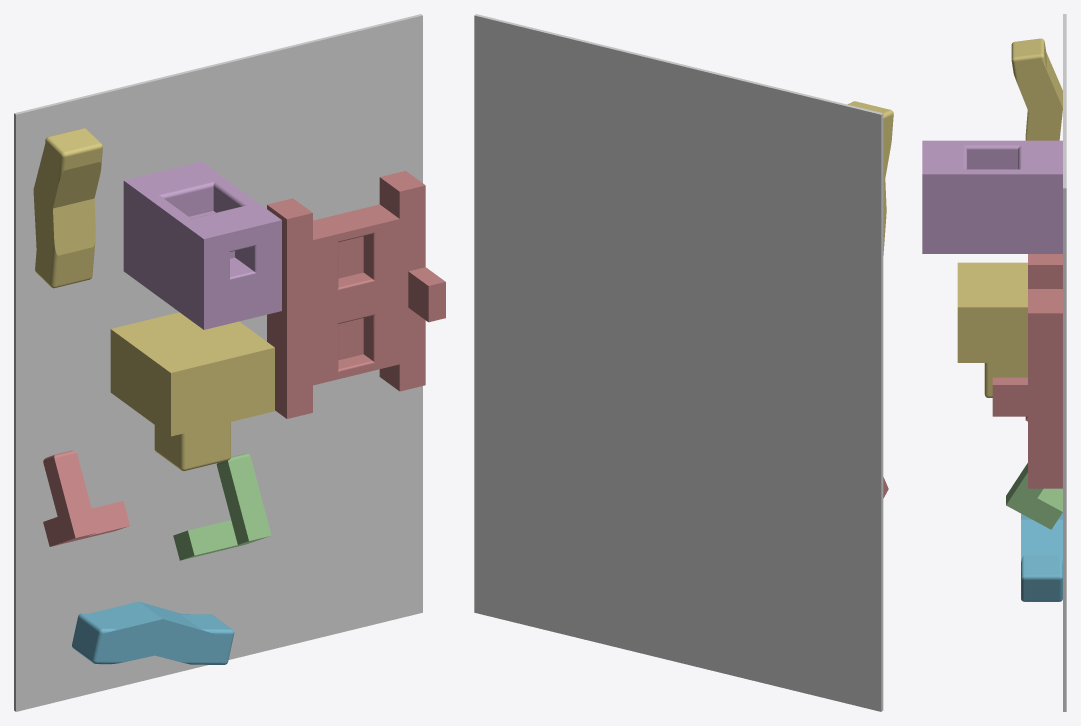
The model's file is pickup_layout.glb.
3 views of the same model, side by side, from view 1: azimuth 30°, elevation 25°; view 2: azimuth 150°, elevation 25°; view 3: azimuth 270°, elevation 25° (orthographic). The views are drawn at different scales.
Parts seen in each view (by area): view 1: world, 0.obj, 3.obj, 6.obj, 1.obj, 2.obj, 4.obj, 5.obj; view 2: world, 1.obj; view 3: 3.obj, 0.obj, 6.obj, 1.obj, 2.obj, world, 4.obj.
Boxes of the visible parts, x1=… form: world: x1=14, y1=14, x2=422, y2=711; 0.obj: x1=267, y1=171, x2=445, y2=418; 3.obj: x1=123, y1=161, x2=281, y2=329; 6.obj: x1=110, y1=312, x2=274, y2=471; 1.obj: x1=33, y1=128, x2=102, y2=288; 2.obj: x1=72, y1=601, x2=234, y2=664; 4.obj: x1=173, y1=453, x2=271, y2=560; 5.obj: x1=43, y1=450, x2=130, y2=546; world: x1=474, y1=14, x2=883, y2=711; 1.obj: x1=847, y1=101, x2=893, y2=255; 3.obj: x1=922, y1=140, x2=1062, y2=253; 0.obj: x1=992, y1=254, x2=1062, y2=488; 6.obj: x1=957, y1=262, x2=1027, y2=397; 1.obj: x1=1011, y1=38, x2=1062, y2=140; 2.obj: x1=1021, y1=512, x2=1062, y2=601; world: x1=1063, y1=14, x2=1066, y2=711; 4.obj: x1=1006, y1=463, x2=1062, y2=529.
Size of the model in its own units: 23.45 by 32.88 by 8.2.
